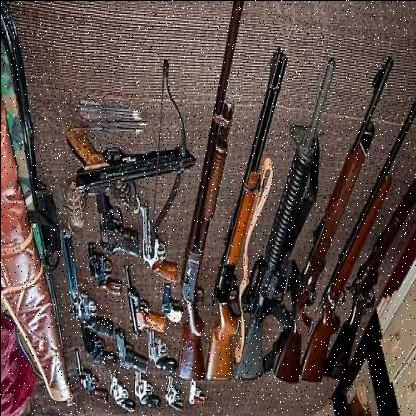rifle: (264, 52, 397, 380), (224, 37, 338, 381), (198, 33, 287, 406), (298, 97, 413, 380), (164, 1, 243, 388), (59, 60, 195, 242), (316, 180, 416, 388)
